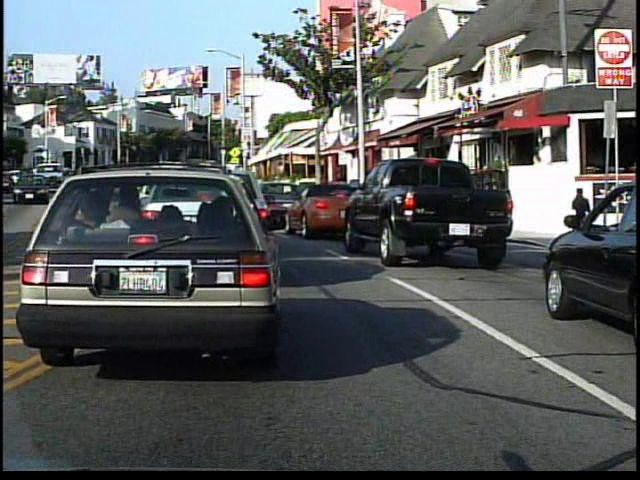person: (484, 151, 509, 201)
